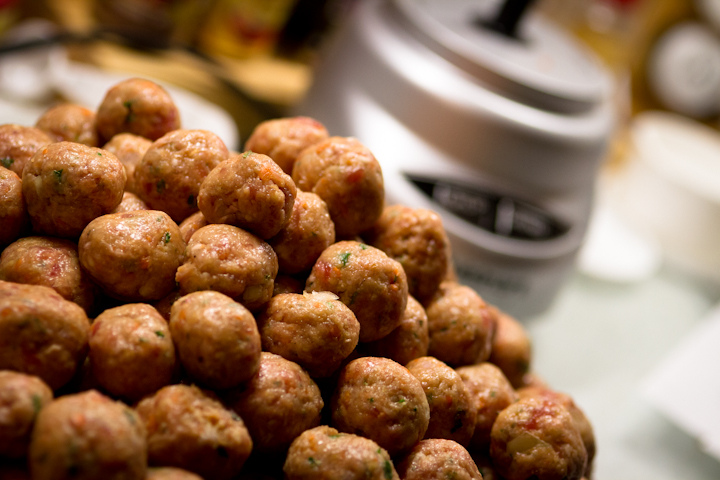meatballs: (158, 288, 268, 394), (332, 343, 434, 441), (151, 383, 269, 467), (28, 396, 139, 480), (31, 152, 145, 230), (1, 286, 106, 368), (320, 229, 409, 324), (189, 147, 294, 227), (181, 225, 286, 304), (83, 300, 175, 383), (81, 200, 179, 277), (301, 134, 382, 223), (283, 426, 410, 480), (152, 119, 219, 213), (256, 294, 360, 351), (257, 341, 319, 436), (501, 407, 578, 480), (96, 78, 175, 142), (433, 279, 495, 360), (440, 366, 513, 428), (389, 213, 443, 287), (5, 231, 76, 277), (422, 433, 482, 480)
